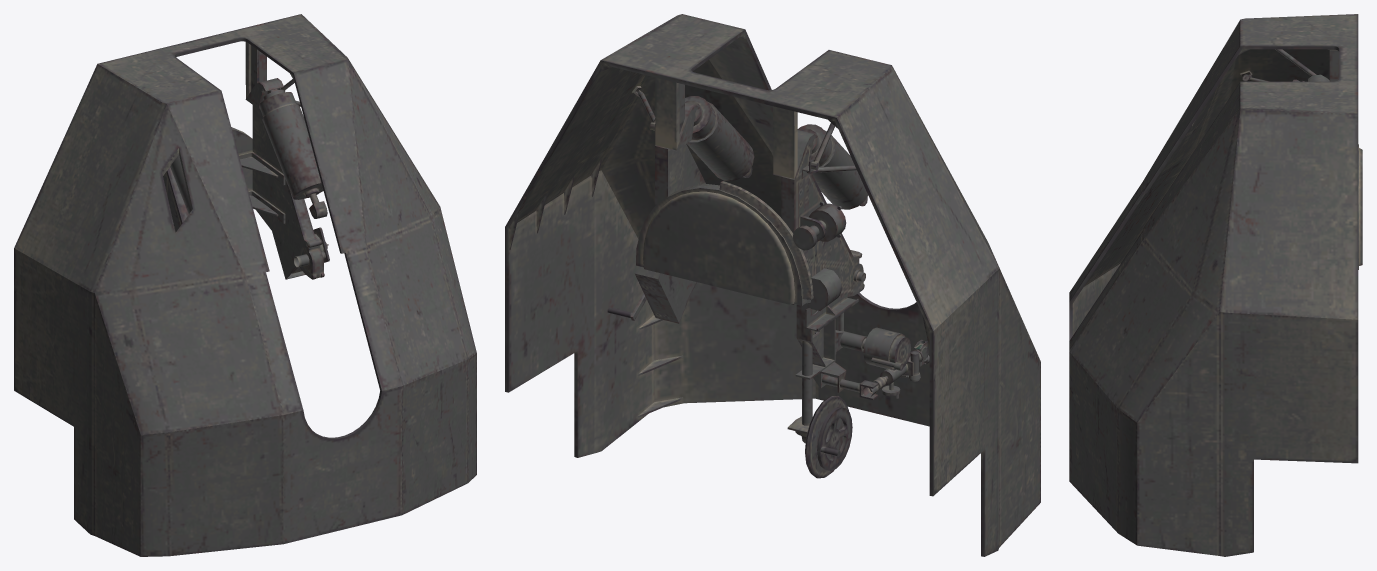
File: Turret_01.glb
The picture shows the model from 3 angles, left to right: view 1: azimuth 30°, elevation 25°; view 2: azimuth 150°, elevation 25°; view 3: azimuth 270°, elevation 25°; orthographic projection. The views are drawn at different scales.
Visible parts, largest first — view 1: set_0_group_0; view 2: set_0_group_0; view 3: set_0_group_0.
Boxes of the visible parts, <box> form: set_0_group_0: <box>14,14,476,556</box>; set_0_group_0: <box>505,14,1040,556</box>; set_0_group_0: <box>1069,14,1362,556</box>.
Size of the model in its own units: 2.46 by 2.57 by 1.68.
1 material, 1 textured.
